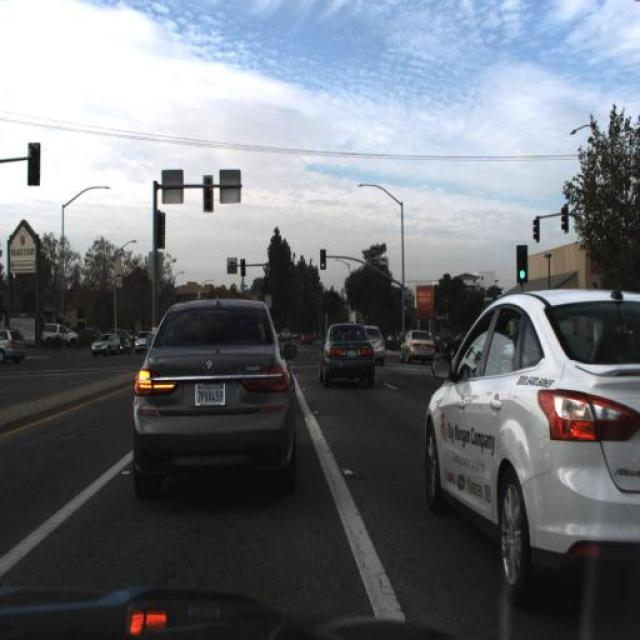car: (424, 286, 637, 590), (129, 303, 292, 477), (317, 325, 381, 406), (394, 315, 434, 365), (0, 325, 28, 365), (362, 325, 386, 370), (363, 325, 387, 366), (90, 331, 121, 352), (336, 320, 363, 342), (134, 327, 151, 354), (275, 319, 291, 347), (297, 325, 315, 349)
trafficLight-Green: (198, 175, 214, 214), (28, 143, 41, 187), (557, 197, 571, 237), (156, 212, 168, 246), (529, 216, 542, 244)
trafficLight-GreenLeft: (515, 244, 526, 280), (317, 246, 328, 274), (240, 256, 250, 279), (258, 275, 268, 296), (399, 294, 408, 314), (320, 249, 326, 271)
